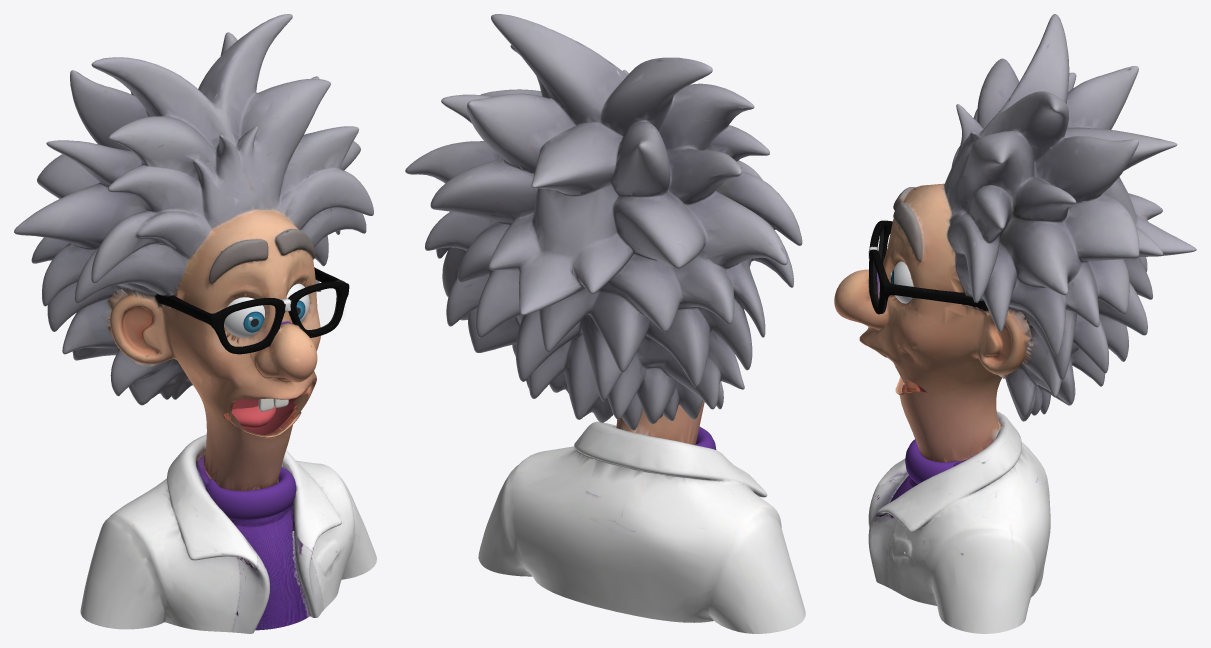
File: drlook-head.glb
3 views of the same model, side by side, from view 1: azimuth 30°, elevation 25°; view 2: azimuth 150°, elevation 25°; view 3: azimuth 270°, elevation 25° (orthographic). The views are drawn at different scales.
Parts seen in each view (by area): view 1: head, collar, eye_R; view 2: head; view 3: head, collar, eye_L.
Part boxes in pixels (x1,y1,x2,y2): head: [14, 14, 376, 633]; collar: [206, 467, 296, 520]; eye_R: [224, 297, 264, 337]; head: [405, 14, 805, 633]; head: [834, 14, 1196, 633]; collar: [905, 439, 960, 483]; eye_L: [891, 261, 913, 303].
Bounding box in the file's own units: 1.26 × 1.81 × 1.17.
Materials: 15 (1 with a texture image).
